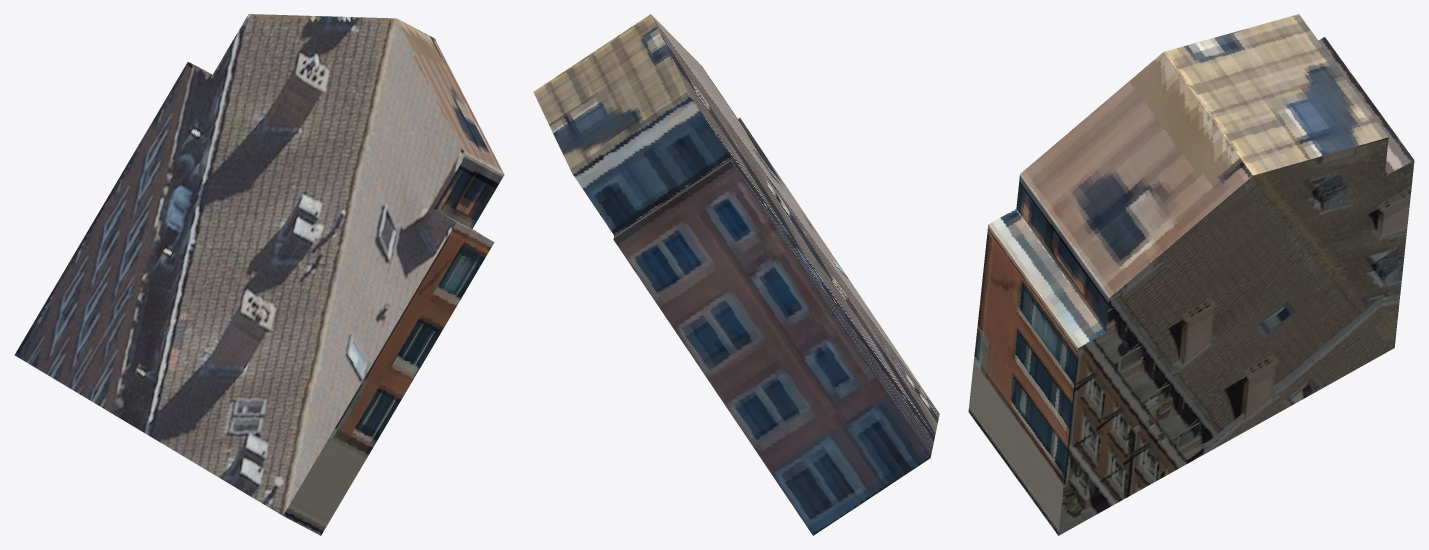
The picture shows the model from 3 angles, left to right: view 1: azimuth 30°, elevation 25°; view 2: azimuth 150°, elevation 25°; view 3: azimuth 270°, elevation 25°; orthographic projection. The views are drawn at different scales.
Parts seen in each view (by area): view 1: BAG_0599100000650052 (×2); view 2: BAG_0599100000650052 (×3); view 3: BAG_0599100000650052 (×3).
Boxes of the visible parts, x1,y1,x2,y2 form: BAG_0599100000650052 (×2): (14,14,504,535); BAG_0599100000650052 (×3): (533,14,939,535); BAG_0599100000650052 (×3): (968,14,1414,535).
Size of the model in its own units: 17.41 by 18.55 by 13.52.
1 material, 1 textured.
